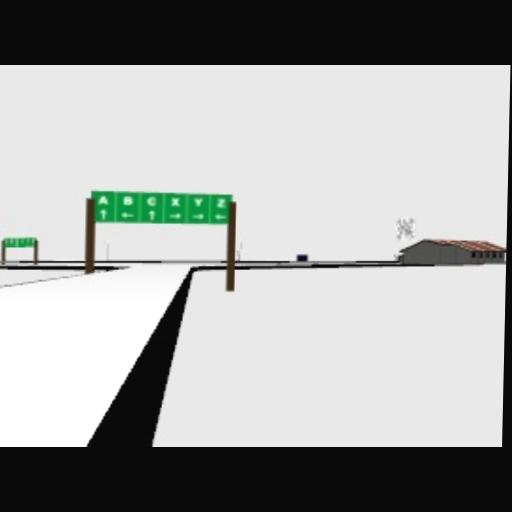A: (96, 195, 109, 205)
B: (121, 195, 132, 205)
C: (145, 195, 156, 207)
Left: (119, 212, 133, 216), (214, 214, 226, 218)
Right: (167, 212, 181, 218), (189, 212, 203, 218)
Straight: (147, 208, 154, 220), (4, 238, 14, 246), (19, 238, 29, 246), (10, 238, 19, 246), (100, 208, 107, 218), (29, 238, 36, 246)
X: (169, 196, 180, 206)
Y: (191, 197, 202, 207)
Z: (215, 198, 226, 206)
